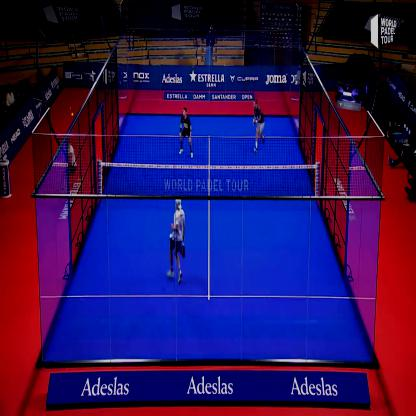ball: (70, 107, 76, 119)
